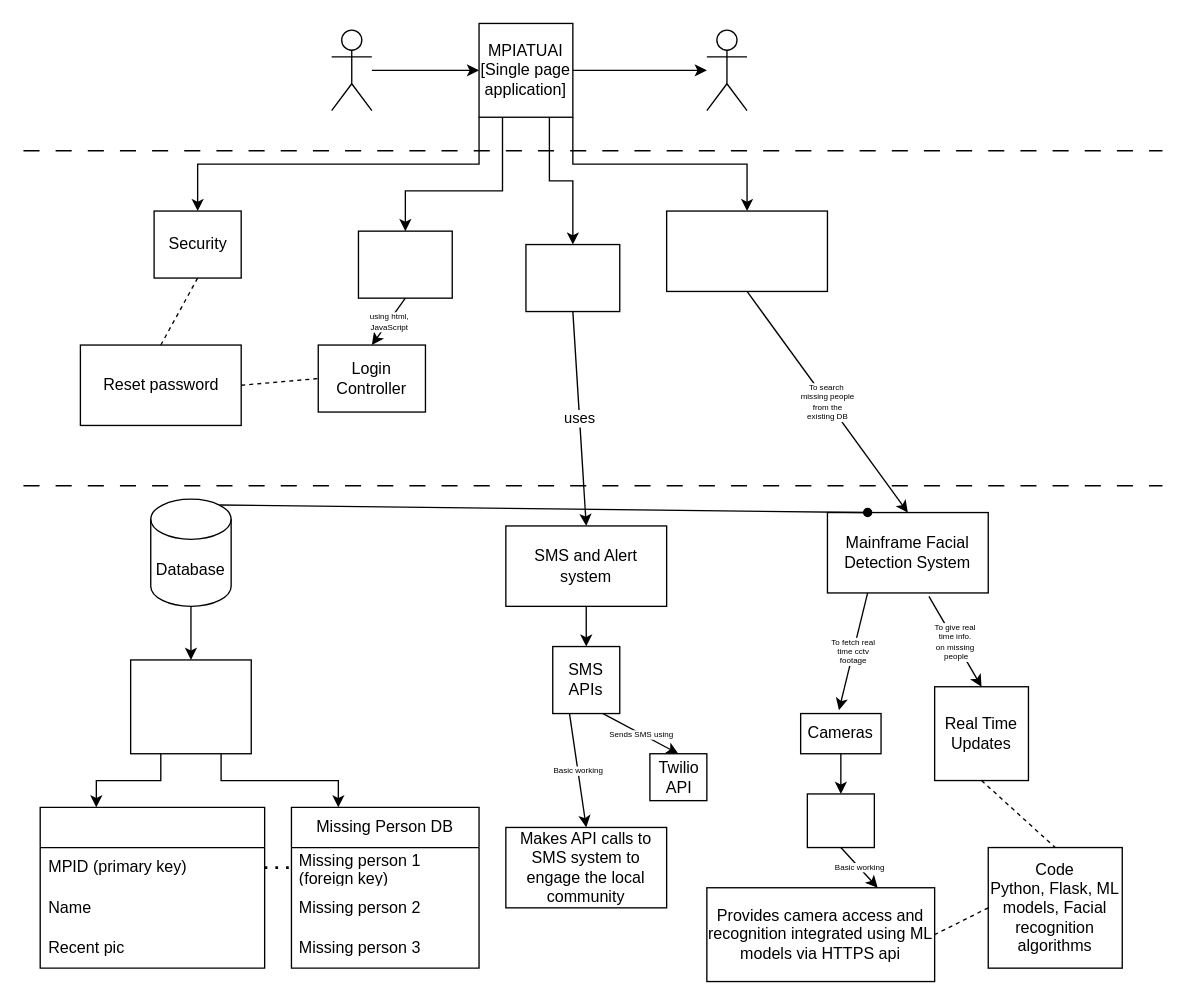
This 1187x1005 diagram has some shape labels left out. Each missing label, with the box of its shape:
DBs like MySQL, MongoDB: (129, 659, 251, 754)
Facial Detection Component using cameras and ML models: (665, 210, 827, 291)
Missing Person: (706, 29, 747, 111)
Police: (330, 29, 372, 111)
Sign in controller: (357, 230, 452, 298)
SMS component [APIs]: (525, 243, 620, 312)
Socket APIs: (806, 793, 874, 848)
Stores missing person report details: (39, 806, 265, 968)
